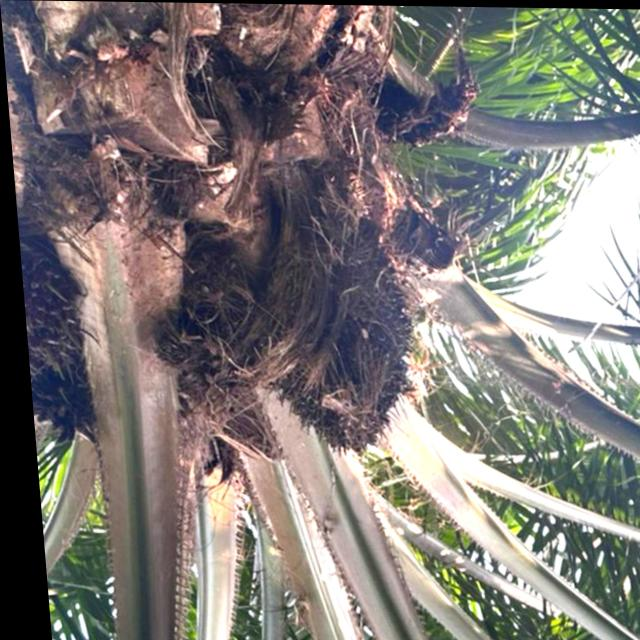unripe: (255, 226, 431, 466)
